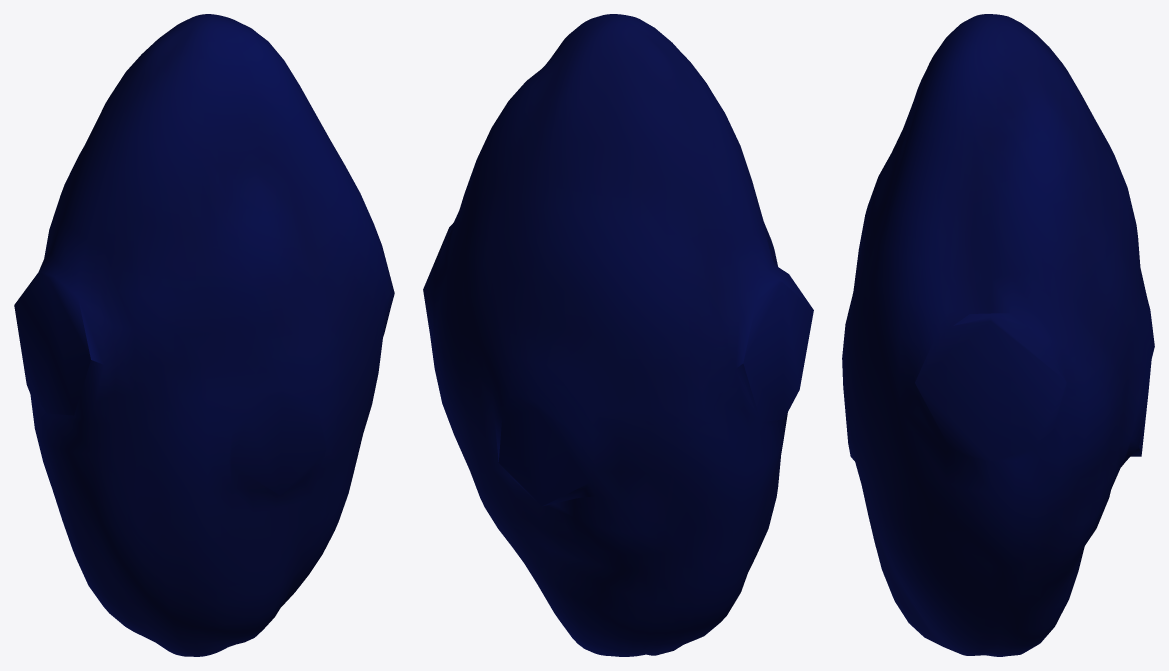
The model's file is mall-scholar-rock-cobalt.glb.
3 views of the same model, side by side, from view 1: azimuth 30°, elevation 25°; view 2: azimuth 150°, elevation 25°; view 3: azimuth 270°, elevation 25° (orthographic). The views are drawn at different scales.
Parts seen in each view (by area): view 1: rock__lacquer; view 2: rock__lacquer; view 3: rock__lacquer.
Part boxes in pixels (x1,y1,x2,y2): rock__lacquer: [14, 14, 394, 656]; rock__lacquer: [423, 14, 813, 656]; rock__lacquer: [842, 14, 1154, 656].
Bounding box in the file's own units: 0.7495 × 1.39 × 0.6156.
